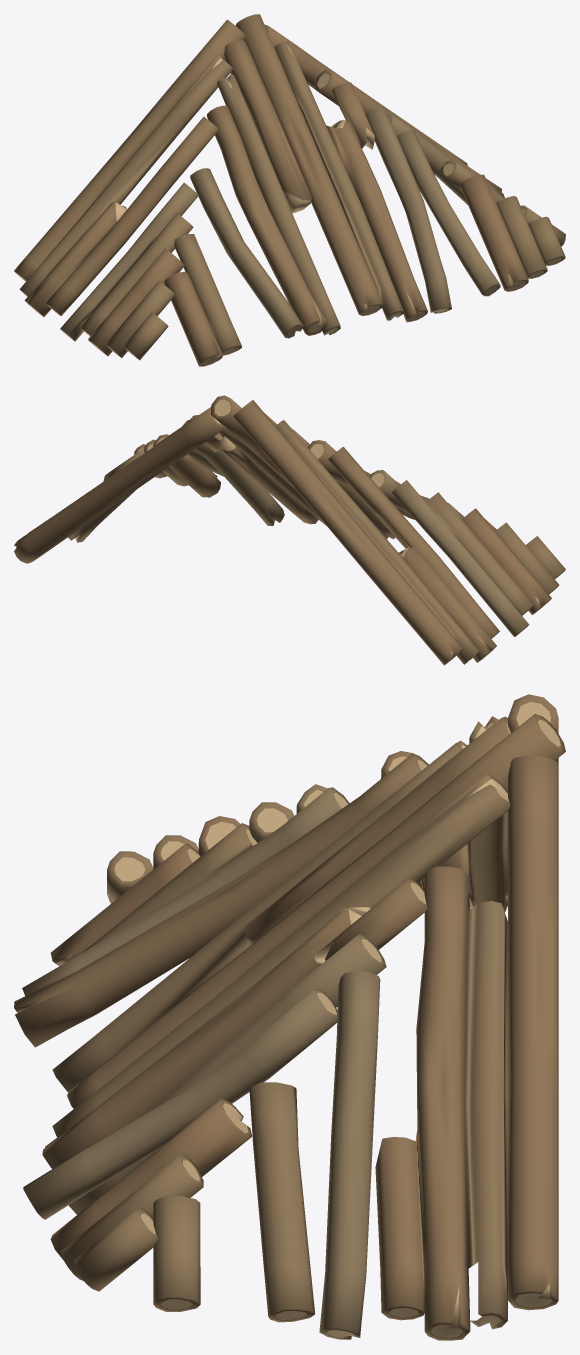
File: rpgpp_av_roof_01_6x3x3_end_02.gltf
3 views of the same model, one above another, from view 1: azimuth 30°, elevation 25°; view 2: azimuth 150°, elevation 25°; view 3: azimuth 270°, elevation 25° (orthographic). The views are drawn at different scales.
Visible parts, largest first — view 1: rpgpp_av_roof_01_6x3x3_end_02; view 2: rpgpp_av_roof_01_6x3x3_end_02; view 3: rpgpp_av_roof_01_6x3x3_end_02.
Part boxes in pixels (x1,y1,x2,y2): rpgpp_av_roof_01_6x3x3_end_02: (14,14,565,366); rpgpp_av_roof_01_6x3x3_end_02: (14,395,565,665); rpgpp_av_roof_01_6x3x3_end_02: (14,694,565,1340).
Size of the model in its own units: 0.0861 by 0.0406 by 0.046.
1 material, 1 textured.
